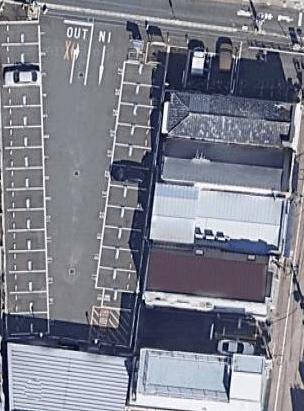parkingspot: (89, 59, 170, 295), (0, 18, 53, 338), (161, 42, 239, 96)
